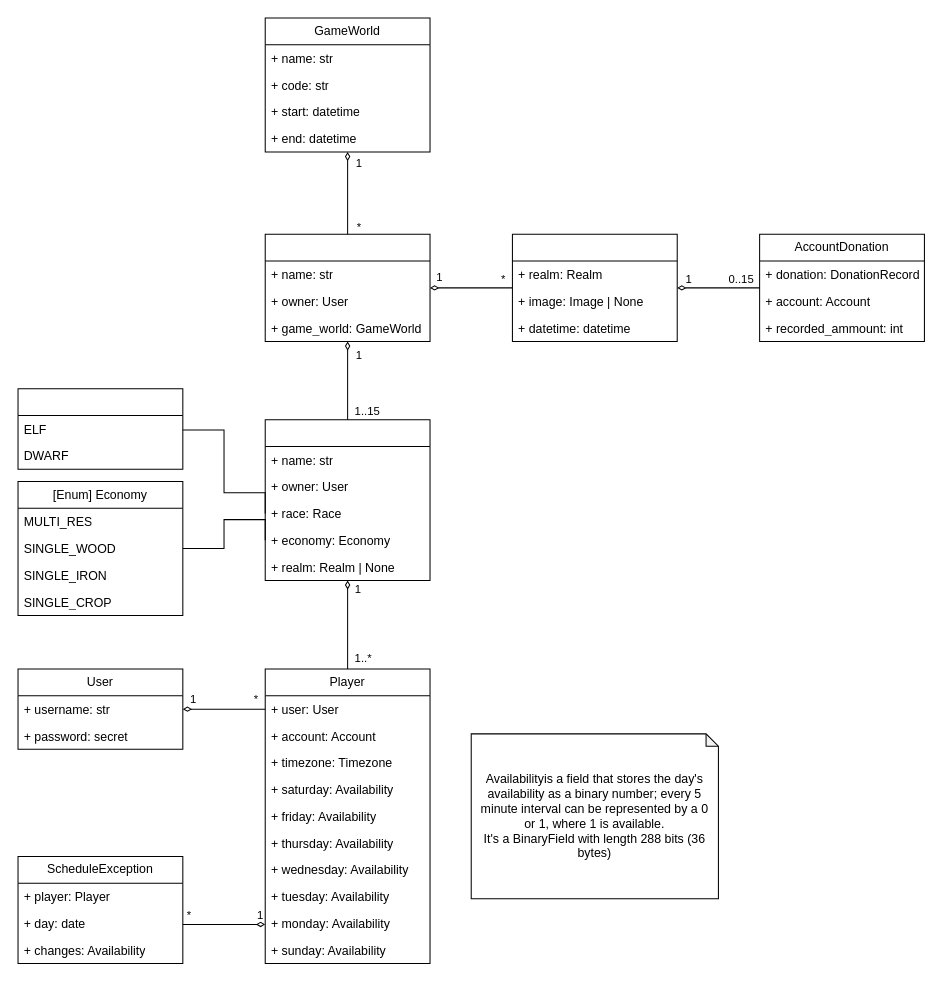
The diagram is 942 pixels wide and 985 high, and some of its shapes have lost their labels. The box of each missing label's shape, as (x1, y1, x2, y2) in pixels:
[Enum] Race: (17, 388, 183, 469)
Account: (264, 419, 430, 580)
DonationRecord: (511, 233, 677, 341)
Realm: (264, 233, 430, 341)
